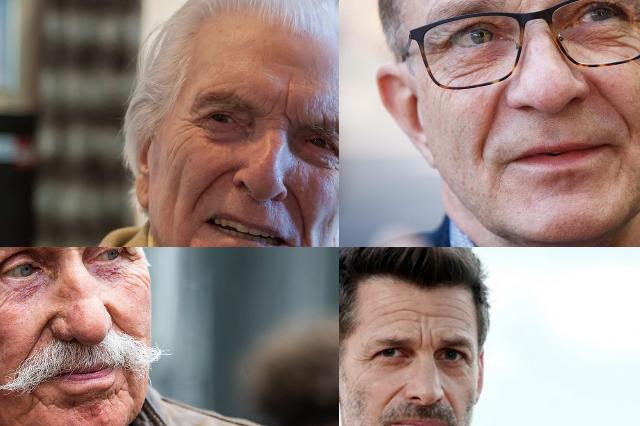chin: (102, 390, 120, 416)
crows_feet: (125, 254, 149, 292), (426, 37, 450, 65), (180, 110, 204, 136), (355, 349, 373, 369), (632, 8, 640, 41), (332, 153, 339, 179)
forehead: (198, 72, 240, 94), (442, 302, 466, 328), (381, 302, 403, 328), (412, 304, 432, 329), (318, 104, 330, 123)
frown_line: (414, 328, 436, 350), (280, 80, 294, 112), (281, 109, 297, 131), (512, 0, 526, 12), (59, 247, 82, 254)
gummy_smile: (591, 78, 633, 134), (476, 91, 506, 155), (192, 161, 234, 202), (102, 306, 132, 342), (289, 189, 311, 235), (28, 319, 50, 359), (382, 378, 404, 404), (440, 389, 456, 413)
sad_smile: (119, 368, 137, 406), (23, 387, 47, 415)
